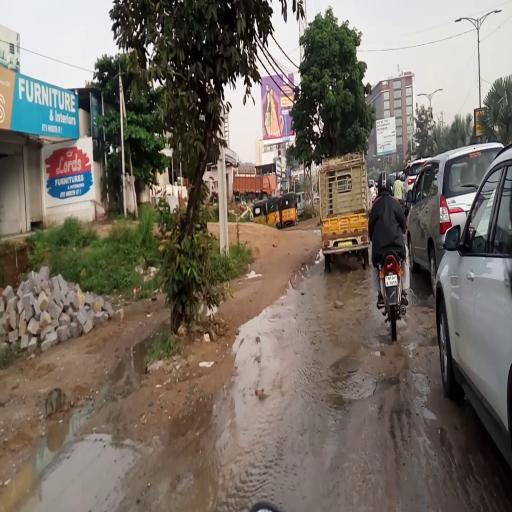street_light_0: (453, 1, 479, 33), (479, 5, 507, 27), (410, 80, 430, 104), (428, 83, 448, 103)
